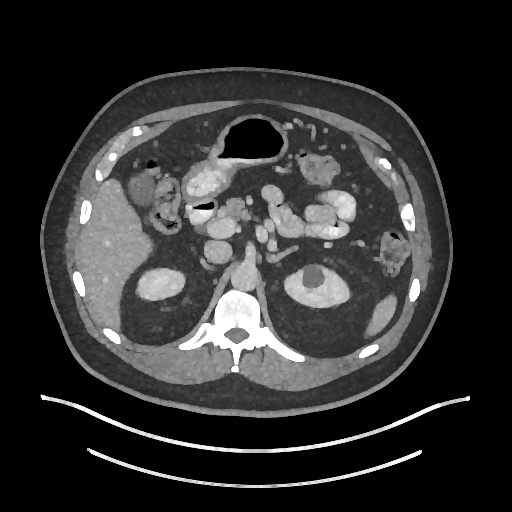Lesion: (298, 262, 329, 292)
